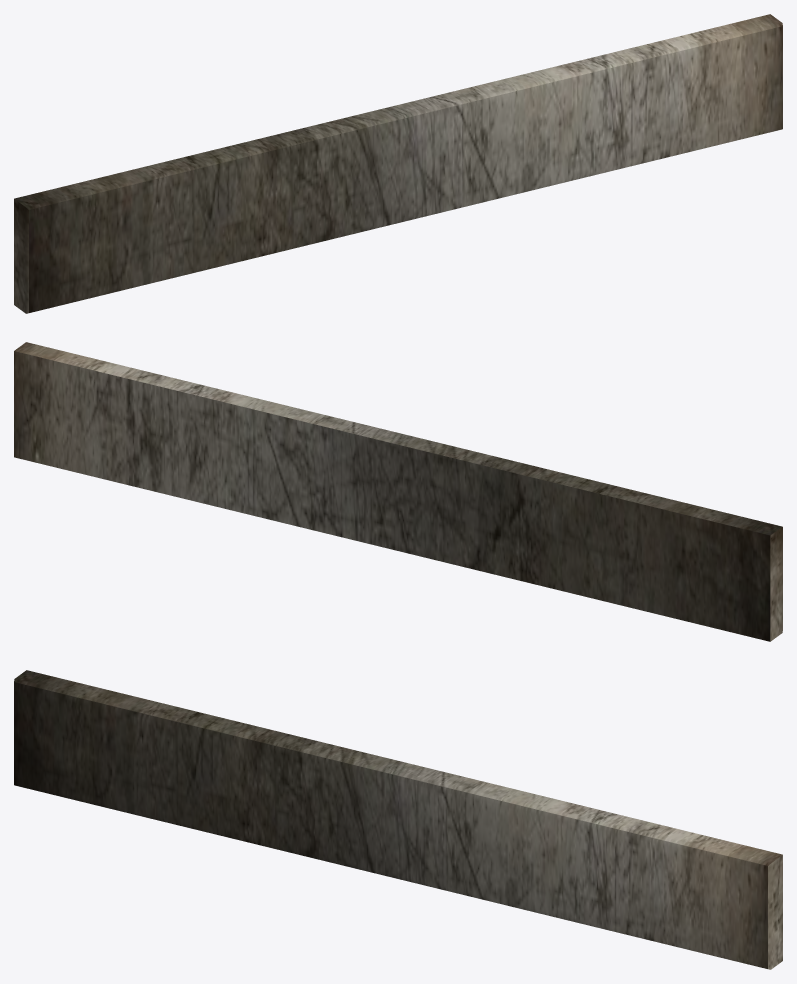
Rendered from bloque_clave_5.fbx.
3 views of the same model, one above another, from view 1: azimuth 30°, elevation 25°; view 2: azimuth 150°, elevation 25°; view 3: azimuth 330°, elevation 25° (orthographic).
Visible parts, largest first — view 1: bloque_clave_5; view 2: bloque_clave_5; view 3: bloque_clave_5.
Part boxes in pixels (x1,y1,x2,y2): bloque_clave_5: [14, 14, 782, 313]; bloque_clave_5: [14, 342, 782, 641]; bloque_clave_5: [14, 670, 782, 969].
Size of the model in its own units: 186 by 25.05 by 6.18.
